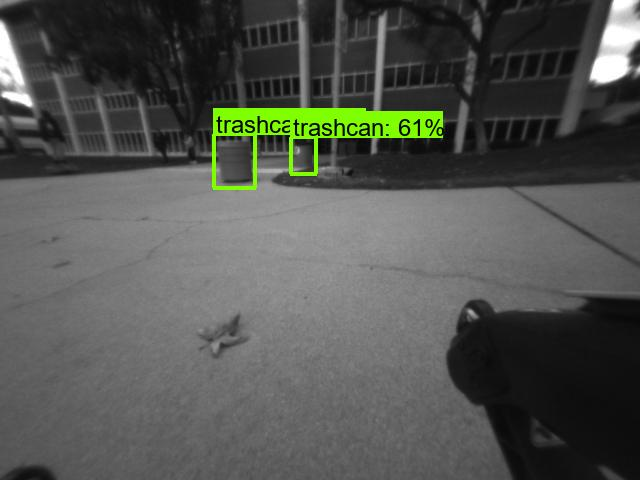trashcan: (216, 139, 265, 188), (295, 140, 314, 172)
